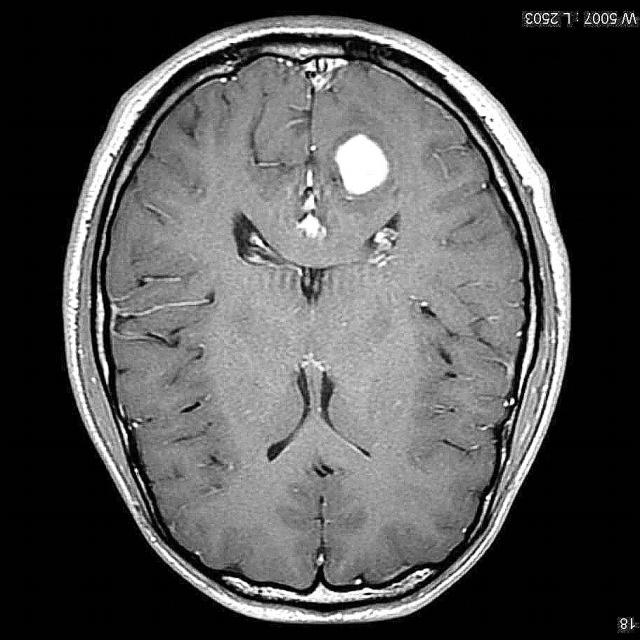tumor: (322, 128, 393, 204)
